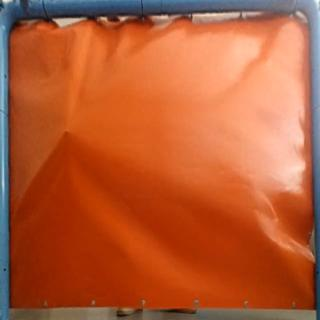Hit-hRxx: (56, 127, 76, 140)
